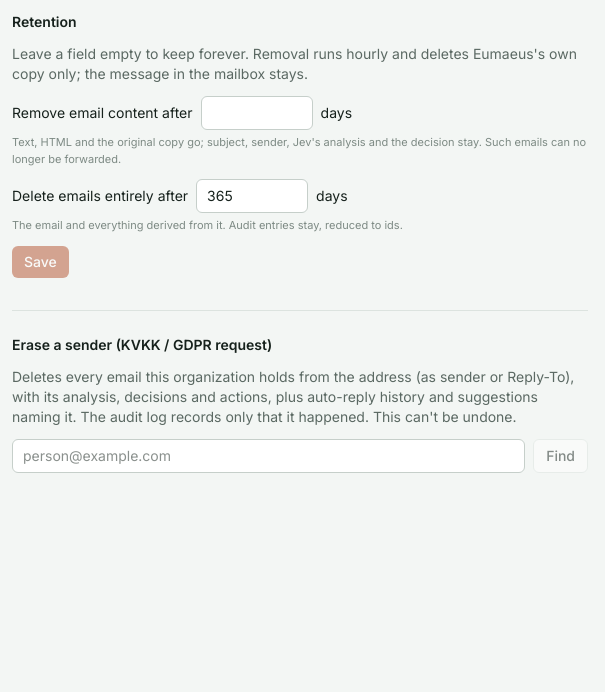
DataPrivacyPanel › finds first, requires the address to be retyped, and targets this organization
This screenshot has width=605, height=692.
Expected: the number field named "Email retention days" holds "365", top-left (196, 179), bottom-right (308, 213)
Type "ayse@example.com" into the field named "Sender address" at [269, 456], box top-left (12, 438), bottom-right (525, 472)
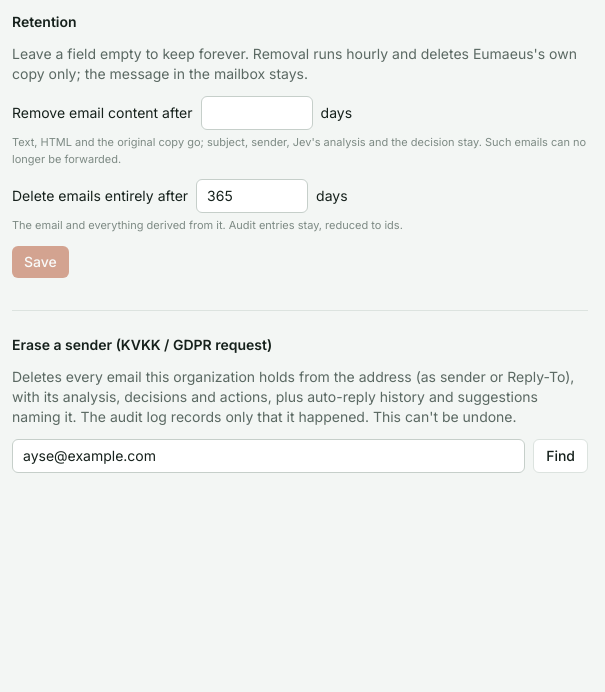
Click the button "Find" at [561, 456], box top-left (533, 438), bottom-right (588, 472)
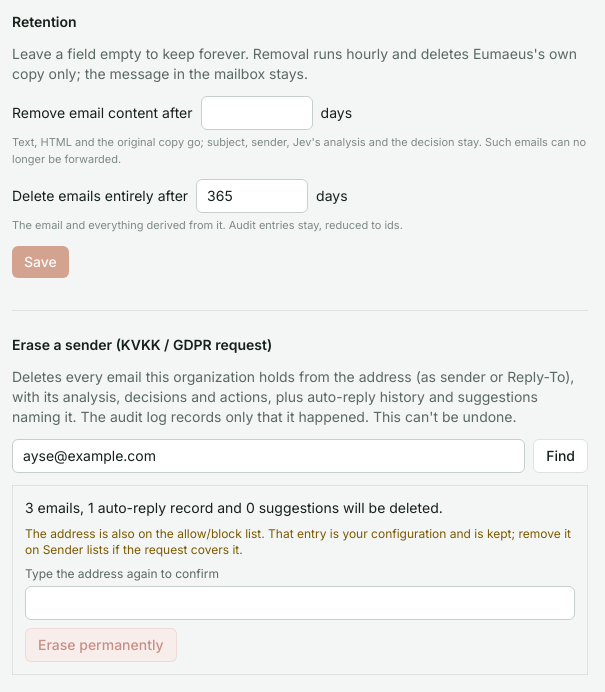
Now the text "3 emails, 1 auto-reply record and 0 suggestions will be deleted" is shown, box top-left (25, 498), bottom-right (443, 516)
Now the text "also on the allow/block list" is shown, box top-left (25, 526), bottom-right (571, 556)
Now the button "Erase permanently" is disabled, box top-left (25, 628), bottom-right (177, 662)
Type "AYSE@example.com" into the field named "Confirm address" at [300, 602], box top-left (25, 586), bottom-right (575, 620)
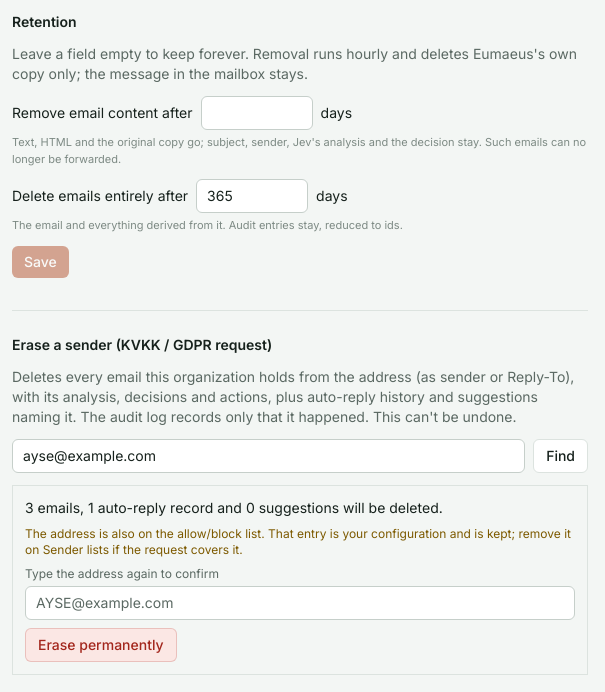
Now the button "Erase permanently" is enabled
Click the button "Erase permanently" at [101, 644], box top-left (25, 628), bottom-right (177, 662)
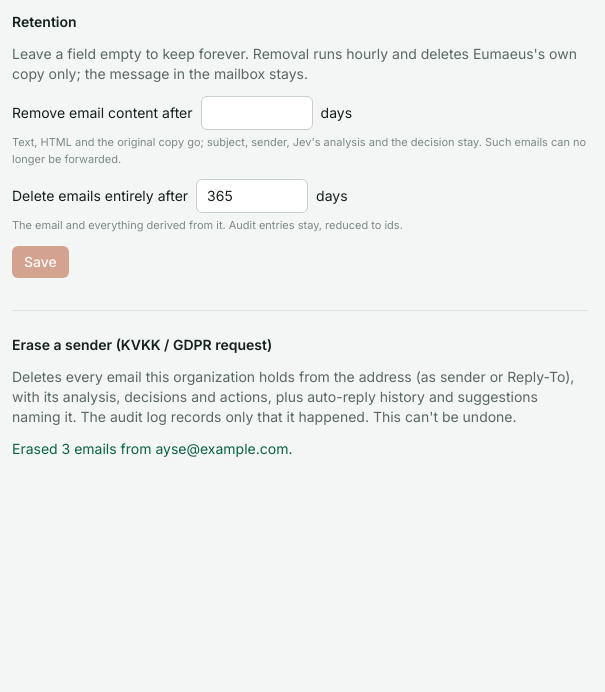
Now the text "Erased 3 emails from ayse@example.com." is shown, box top-left (12, 440), bottom-right (292, 456)
